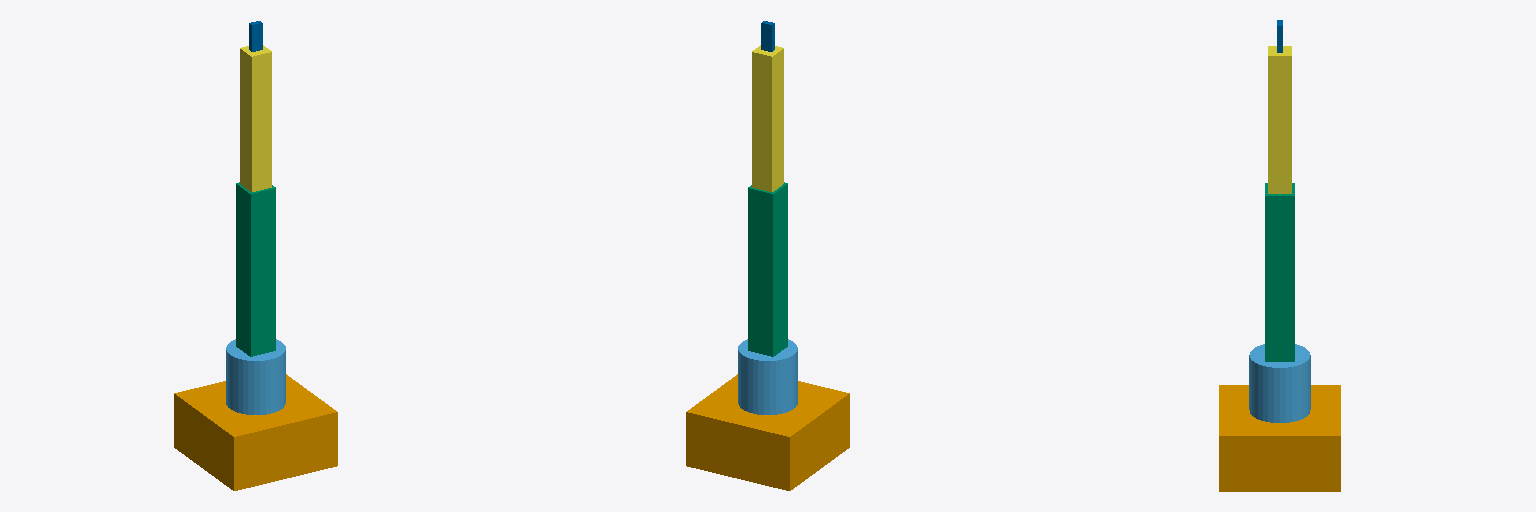
URDF robot description (arm_demo):
<?xml version="1.0"?>
<!-- Demo arm for tests and CI: primitive shapes only, no meshes, no CAD.
     One joint of each movable type: continuous (yaw), revolute (pitch, elbow), prismatic (finger),
     plus a fixed tool frame. Inertias are those of the solid shapes. Z is up. -->
<robot name="arm_demo">
  <link name="base_link">
    <inertial>
      <origin xyz="0 0 0.05"/>
      <mass value="2.0"/>
      <inertia ixx="0.008333" ixy="0" ixz="0" iyy="0.008333" iyz="0" izz="0.013333"/>
    </inertial>
    <visual><origin xyz="0 0 0.05"/><geometry><box size="0.2 0.2 0.1"/></geometry></visual>
    <collision><origin xyz="0 0 0.05"/><geometry><box size="0.2 0.2 0.1"/></geometry></collision>
  </link>

  <joint name="yaw_joint" type="continuous">
    <parent link="base_link"/>
    <child link="turret_link"/>
    <origin xyz="0 0 0.1"/>
    <axis xyz="0 0 1"/>
    <limit effort="20" velocity="2.0"/>
  </joint>

  <link name="turret_link">
    <inertial>
      <origin xyz="0 0 0.05"/>
      <mass value="1.0"/>
      <inertia ixx="0.001458" ixy="0" ixz="0" iyy="0.001458" iyz="0" izz="0.00125"/>
    </inertial>
    <visual><origin xyz="0 0 0.05"/><geometry><cylinder radius="0.05" length="0.1"/></geometry></visual>
    <collision><origin xyz="0 0 0.05"/><geometry><cylinder radius="0.05" length="0.1"/></geometry></collision>
  </link>

  <joint name="pitch_joint" type="revolute">
    <parent link="turret_link"/>
    <child link="upper_arm_link"/>
    <origin xyz="0 0 0.1"/>
    <axis xyz="0 1 0"/>
    <limit lower="-1.57" upper="1.57" effort="15" velocity="2.0"/>
  </joint>

  <link name="upper_arm_link">
    <inertial>
      <origin xyz="0 0 0.15"/>
      <mass value="1.0"/>
      <inertia ixx="0.007708" ixy="0" ixz="0" iyy="0.007708" iyz="0" izz="0.000417"/>
    </inertial>
    <visual><origin xyz="0 0 0.15"/><geometry><box size="0.05 0.05 0.3"/></geometry></visual>
    <collision><origin xyz="0 0 0.15"/><geometry><box size="0.05 0.05 0.3"/></geometry></collision>
  </link>

  <joint name="elbow_joint" type="revolute">
    <parent link="upper_arm_link"/>
    <child link="forearm_link"/>
    <origin xyz="0 0 0.3"/>
    <axis xyz="0 1 0"/>
    <limit lower="-2.5" upper="2.5" effort="10" velocity="2.5"/>
  </joint>

  <link name="forearm_link">
    <inertial>
      <origin xyz="0 0 0.125"/>
      <mass value="0.6"/>
      <inertia ixx="0.003205" ixy="0" ixz="0" iyy="0.003205" iyz="0" izz="0.00016"/>
    </inertial>
    <visual><origin xyz="0 0 0.125"/><geometry><box size="0.04 0.04 0.25"/></geometry></visual>
    <collision><origin xyz="0 0 0.125"/><geometry><box size="0.04 0.04 0.25"/></geometry></collision>
  </link>

  <joint name="finger_joint" type="prismatic">
    <parent link="forearm_link"/>
    <child link="finger_link"/>
    <origin xyz="0 0 0.25"/>
    <axis xyz="0 1 0"/>
    <limit lower="0" upper="0.03" effort="5" velocity="0.1"/>
  </joint>

  <link name="finger_link">
    <inertial>
      <origin xyz="0 0 0.025"/>
      <mass value="0.05"/>
      <inertia ixx="0.00001083" ixy="0" ixz="0" iyy="0.00001208" iyz="0" izz="0.00000208"/>
    </inertial>
    <visual><origin xyz="0 0 0.025"/><geometry><box size="0.02 0.01 0.05"/></geometry></visual>
    <collision><origin xyz="0 0 0.025"/><geometry><box size="0.02 0.01 0.05"/></geometry></collision>
  </link>

  <joint name="tool_joint" type="fixed">
    <parent link="forearm_link"/>
    <child link="tool_frame"/>
    <origin xyz="0 0 0.3"/>
  </joint>

  <link name="tool_frame"/>
</robot>

--- Render facts (derived) ---
The picture shows the robot from 3 angles, left to right: view 1: azimuth 30°, elevation 25°; view 2: azimuth 150°, elevation 25°; view 3: azimuth 270°, elevation 25°; orthographic projection.
Model arm_demo with 6 links and 5 joints (2 revolute, 1 continuous, 1 prismatic, 1 fixed), rooted at base_link, posed all joints at 0.
Visible links, largest first — view 1: base_link, upper_arm_link, forearm_link, turret_link; view 2: base_link, upper_arm_link, forearm_link, turret_link; view 3: base_link, upper_arm_link, turret_link, forearm_link.
Link boxes in pixels (box(x1,y1,x2,y2)): base_link: box(174, 374, 337, 490); upper_arm_link: box(236, 182, 275, 356); forearm_link: box(240, 45, 271, 191); turret_link: box(226, 339, 285, 414); base_link: box(686, 374, 849, 490); upper_arm_link: box(748, 182, 787, 356); forearm_link: box(752, 45, 783, 191); turret_link: box(738, 339, 797, 414); base_link: box(1219, 385, 1340, 491); upper_arm_link: box(1265, 183, 1294, 361); turret_link: box(1249, 344, 1310, 422); forearm_link: box(1268, 46, 1291, 193).
Size in the robot's own frame: 0.2 by 0.2 by 0.8 metres.
Geometry: primitives only (box / cylinder / sphere), no mesh files.
